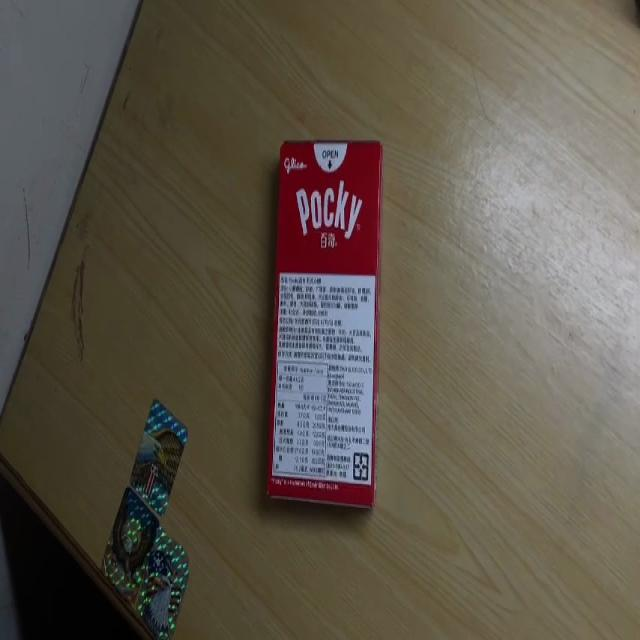Pocky: (266, 131, 386, 515)
